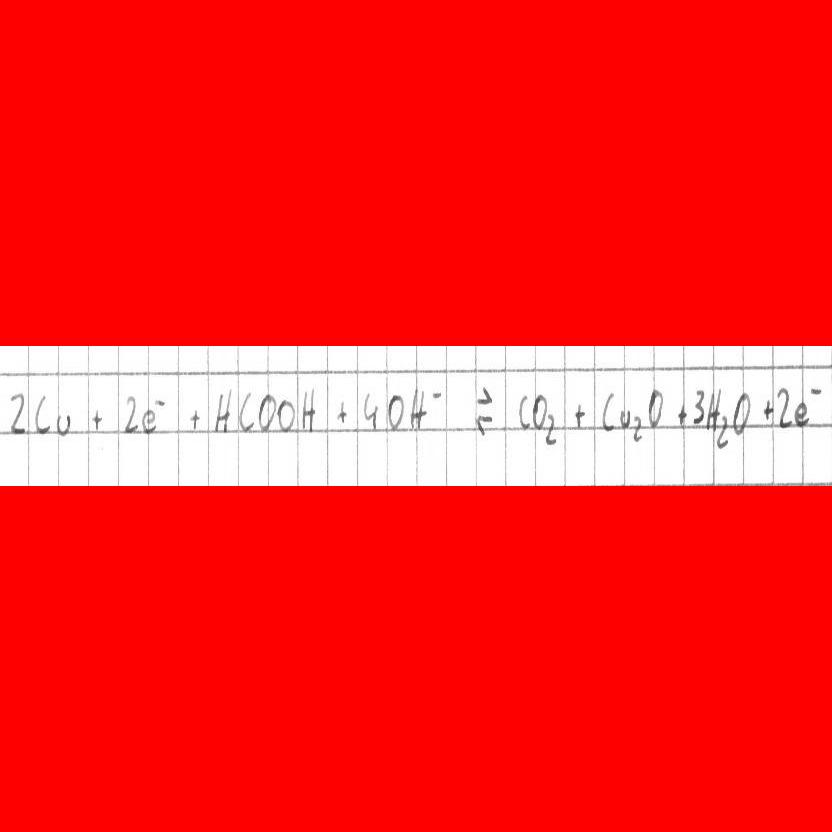Char: (471, 382, 494, 435), (730, 392, 750, 444), (298, 383, 317, 432), (6, 391, 26, 435), (407, 385, 426, 431), (213, 387, 232, 432), (361, 391, 381, 430), (32, 393, 51, 434), (238, 391, 256, 434), (255, 393, 274, 431), (121, 394, 139, 433), (774, 386, 790, 428), (647, 388, 664, 427), (706, 388, 721, 431), (601, 391, 617, 431), (387, 394, 404, 431), (531, 393, 547, 430), (278, 397, 293, 430), (792, 400, 811, 426), (715, 414, 729, 449), (544, 413, 559, 445), (693, 390, 706, 426), (518, 395, 531, 429), (573, 400, 588, 429), (54, 412, 71, 436), (141, 408, 157, 433), (675, 401, 690, 427), (334, 401, 350, 425), (760, 398, 773, 422), (809, 382, 826, 400), (632, 415, 643, 442), (428, 386, 444, 404), (91, 408, 103, 432), (187, 409, 200, 431), (619, 408, 630, 429), (153, 397, 165, 408)
